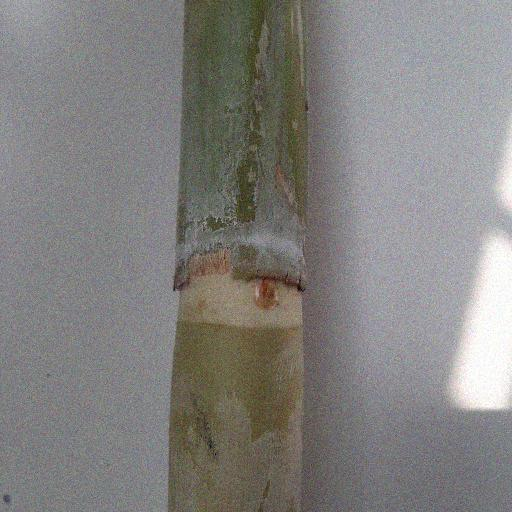Damage_Bud: (253, 277, 279, 311)
